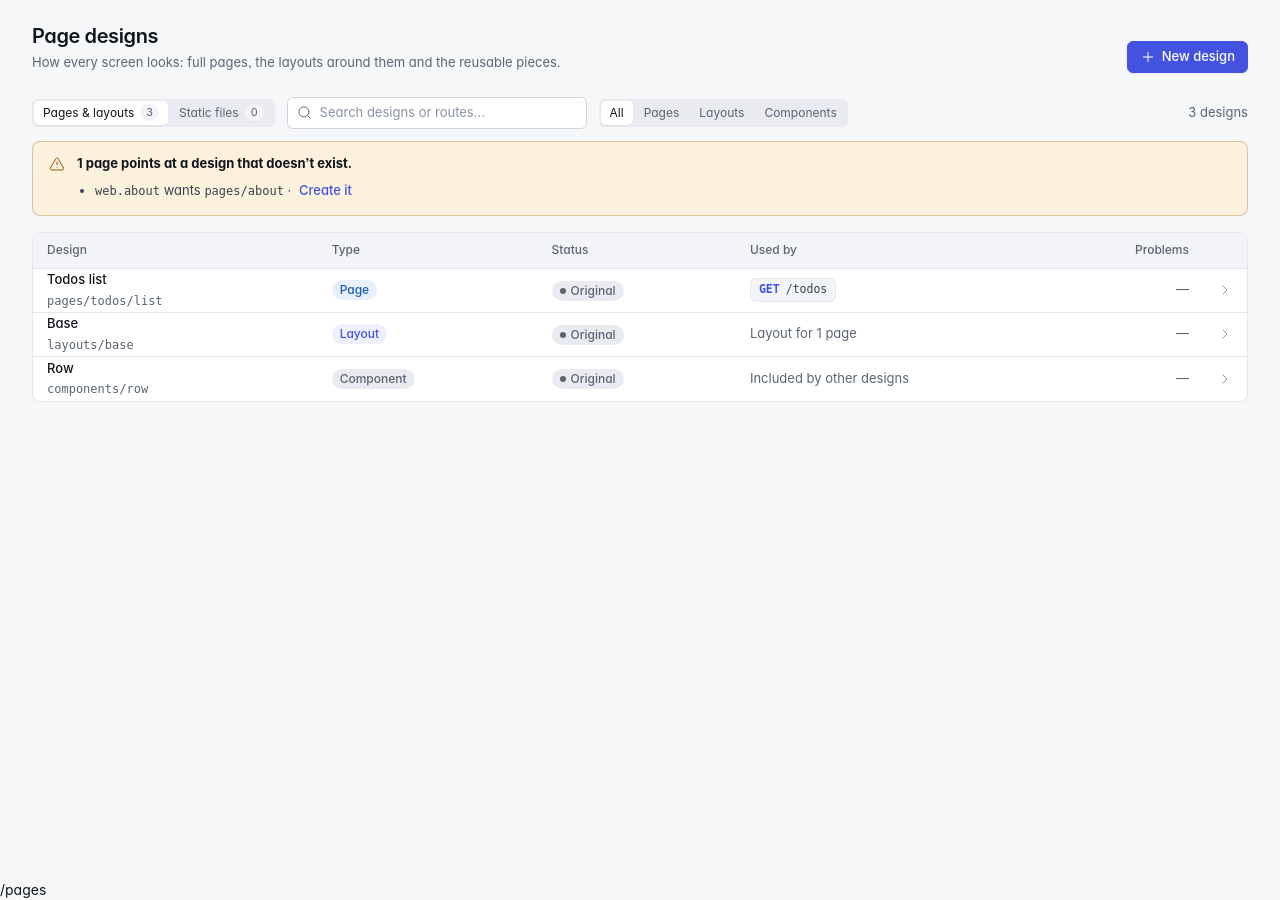
Test: Page designs list › warns about pages that point at a design that does not exist, and offers to create it
The image size is (1280, 900).
Check: the message shows "web.about", box [95, 184, 160, 198]
Step 1. Click the button "Create it" → {"x": 325, "y": 191}, box [295, 179, 356, 202]
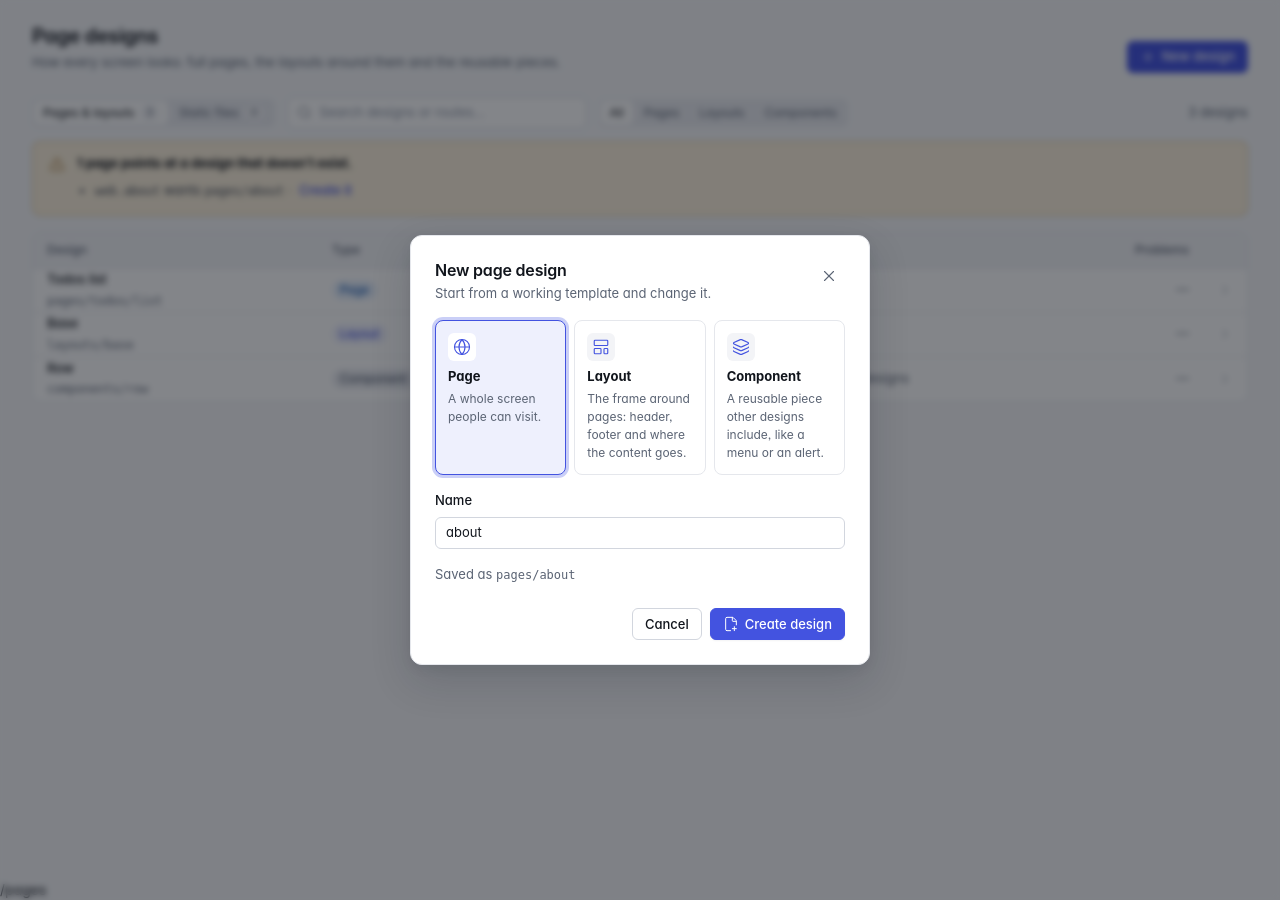
Check: the field holds "about", box [435, 517, 845, 549]
Check: the text "pages/about" is shown, box [496, 568, 576, 582]
